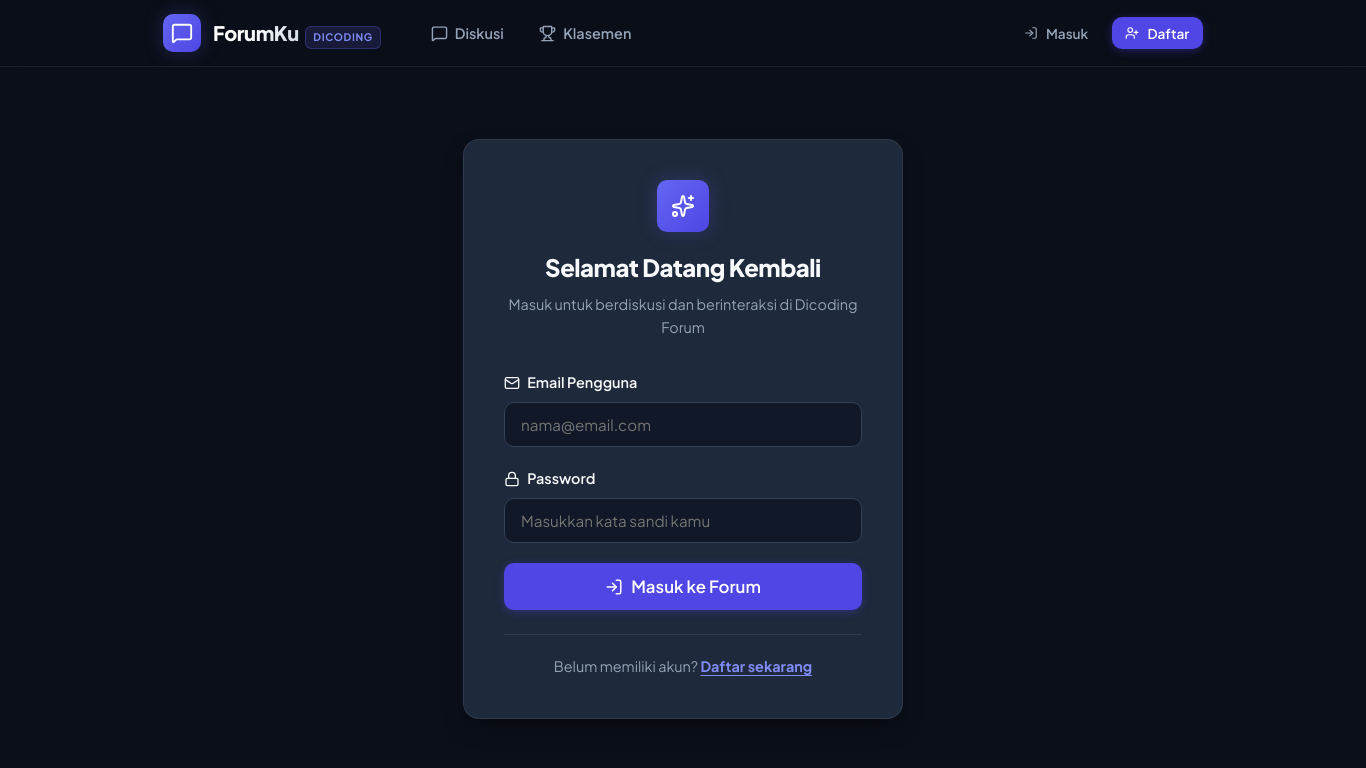
Test case: Login spec › should display error message when login with invalid credentials
Type "invalid@user.com" into the field with id "login-email".
click(683, 425); type("invalid@user.com")  # box [504,402,862,447]
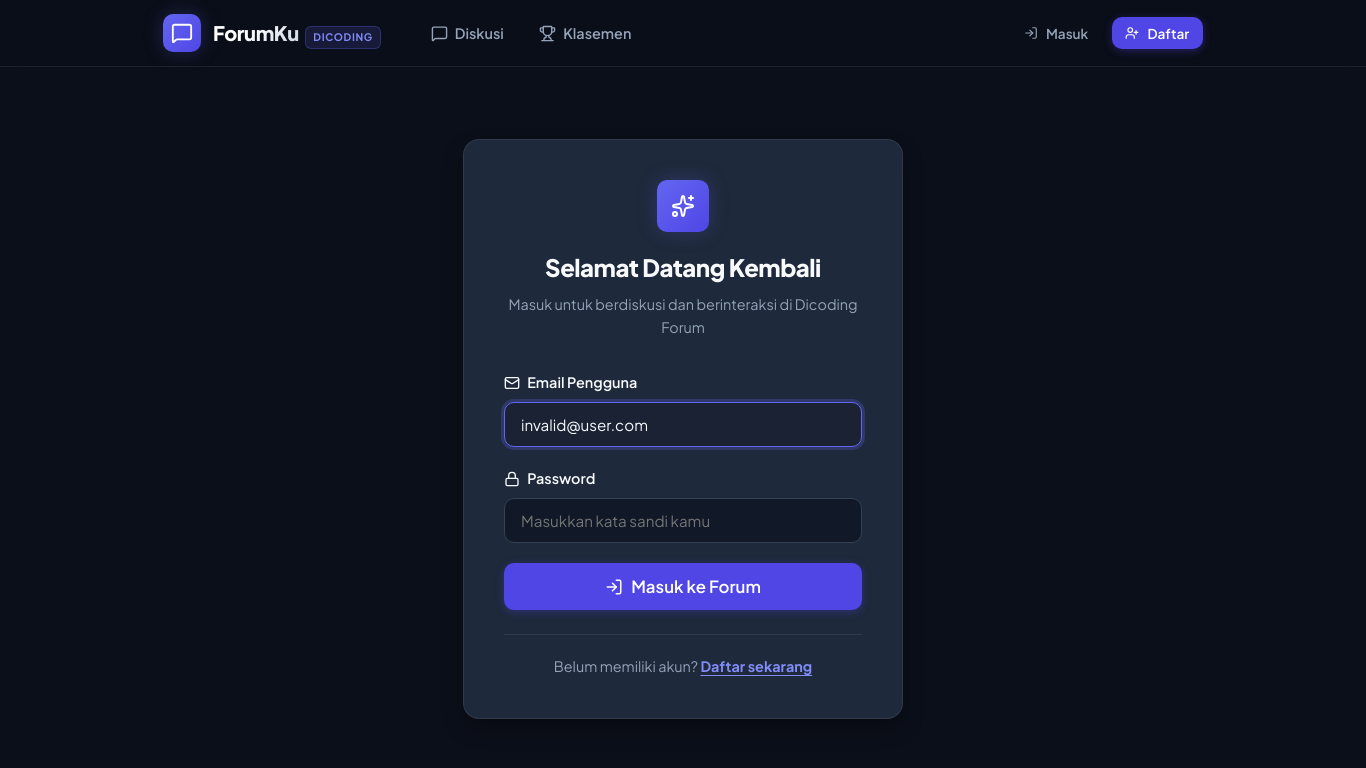
Type "wrongpassword" into the password field with id "login-password".
click(683, 521); type("wrongpassword")  # box [504,498,862,543]
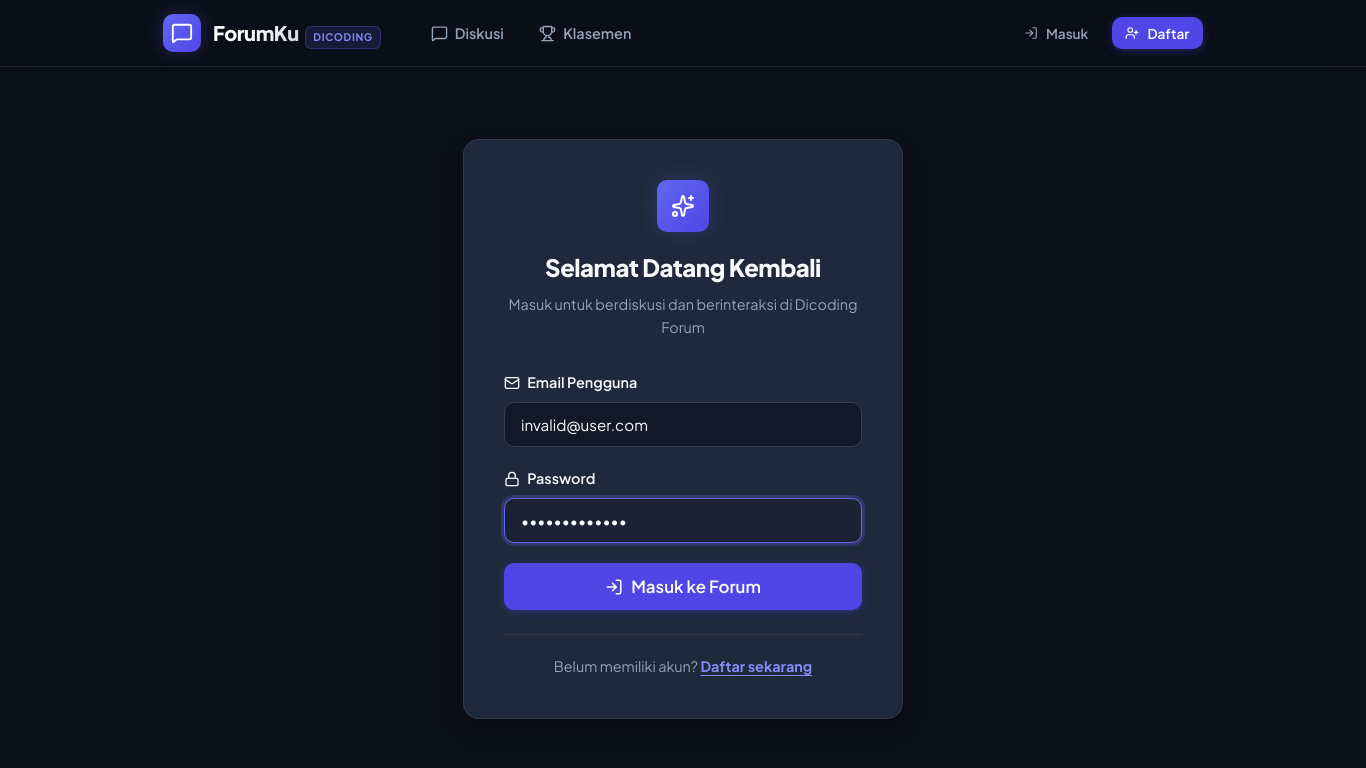
Click the button "Masuk ke Forum".
click(683, 587)  # box [504,563,862,610]
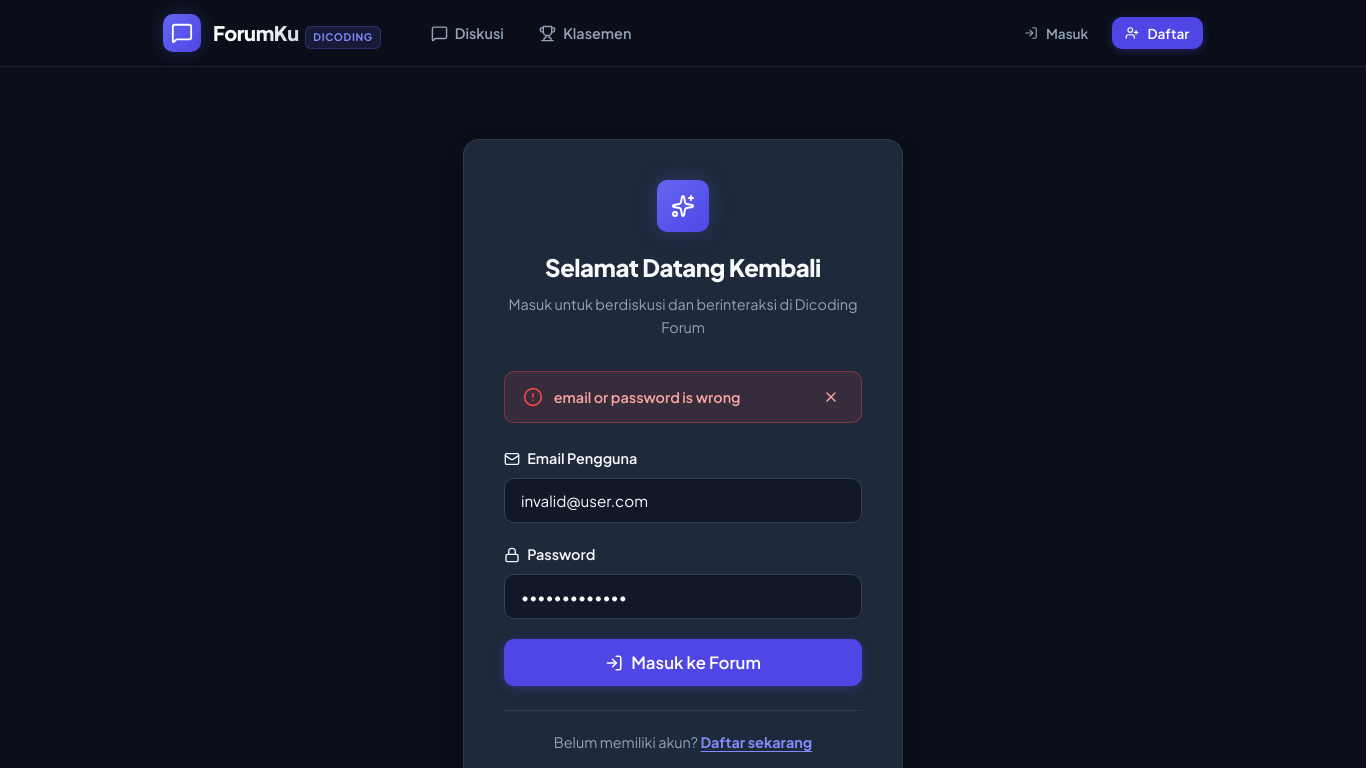
Check: the text "email or password is wrong" is shown, box [554,386,740,409]
